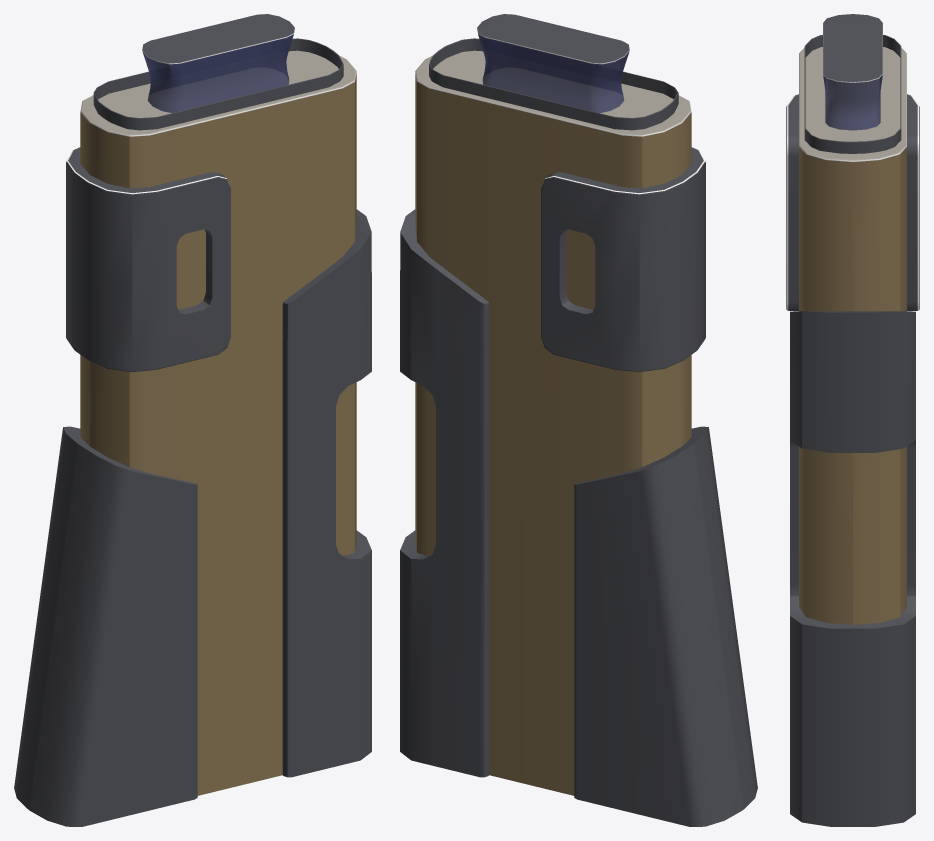
Rendered from MOD_TallBuilding_C.fbx.
The picture shows the model from 3 angles, left to right: view 1: azimuth 30°, elevation 25°; view 2: azimuth 150°, elevation 25°; view 3: azimuth 270°, elevation 25°; orthographic projection.
Visible parts, largest first — view 1: MOD_TallBuilding_C; view 2: MOD_TallBuilding_C; view 3: MOD_TallBuilding_C.
Part boxes in pixels (x1,y1,x2,y2): MOD_TallBuilding_C: (14,14,371,826); MOD_TallBuilding_C: (400,14,757,826); MOD_TallBuilding_C: (786,14,919,826).
Size of the model in its own units: 12375 by 26298 by 4455.
